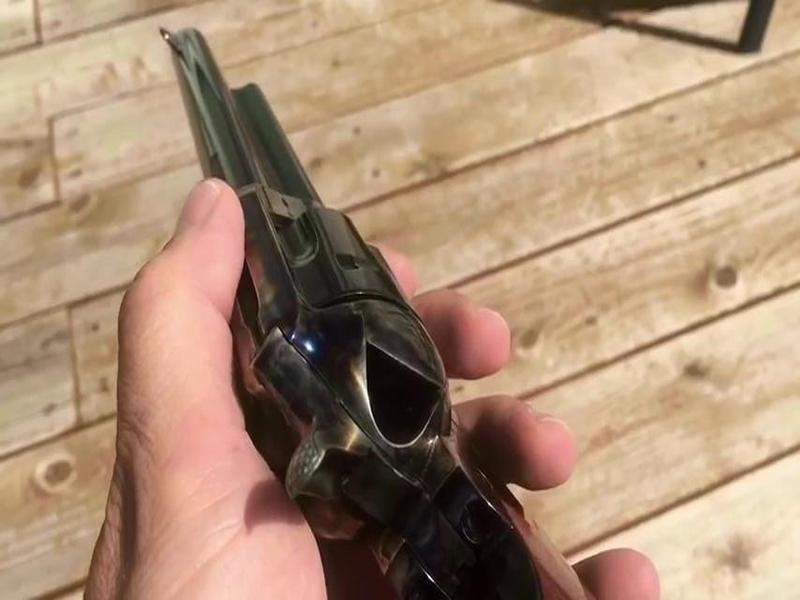Revolver: (167, 20, 472, 572)
